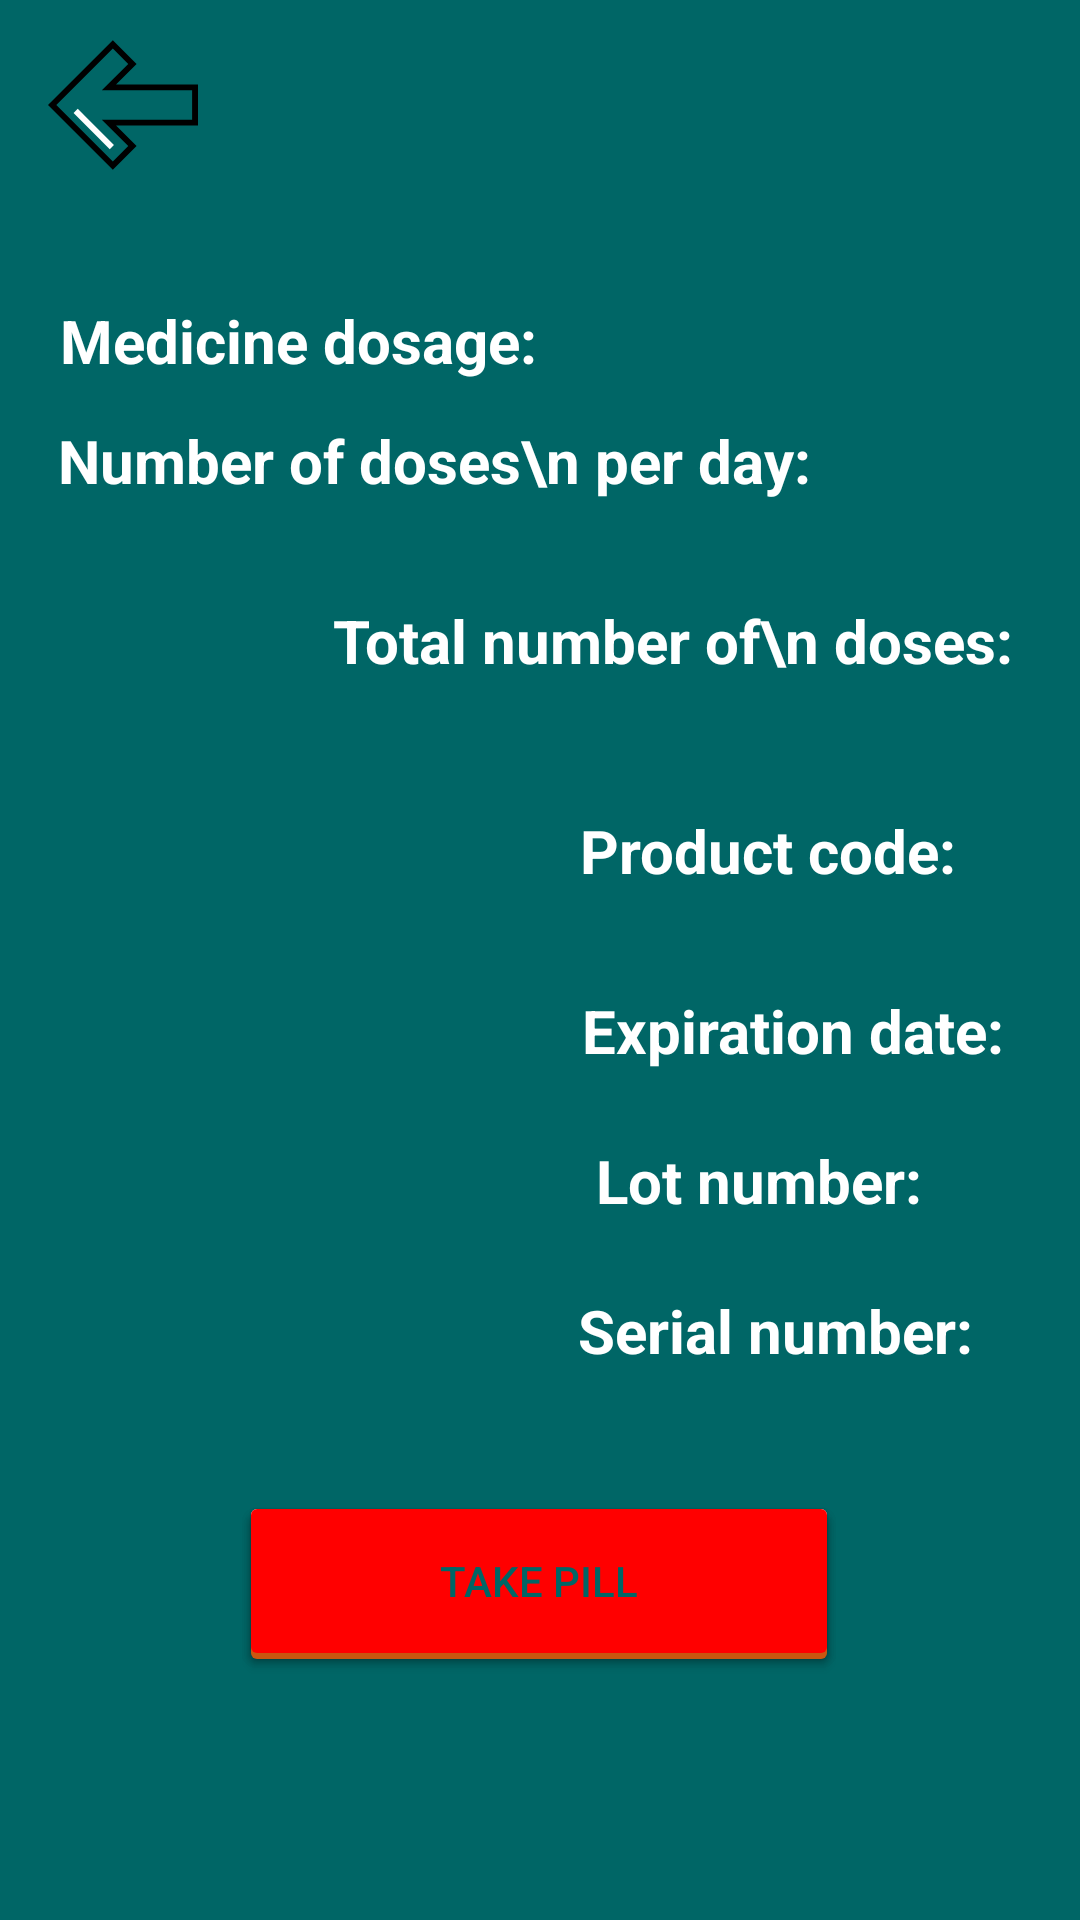

Screen size 1080px x 1920px. Icon name, then its center in pixels as point (x, y):
previous back: point (123, 105)
